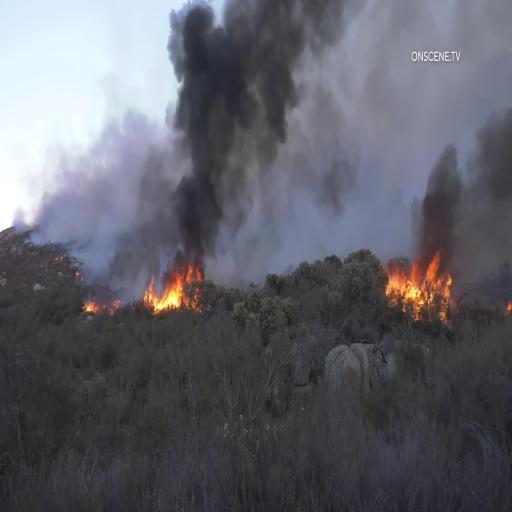fire: (382, 256, 462, 331), (144, 262, 200, 332)
smoke: (176, 0, 341, 254)
